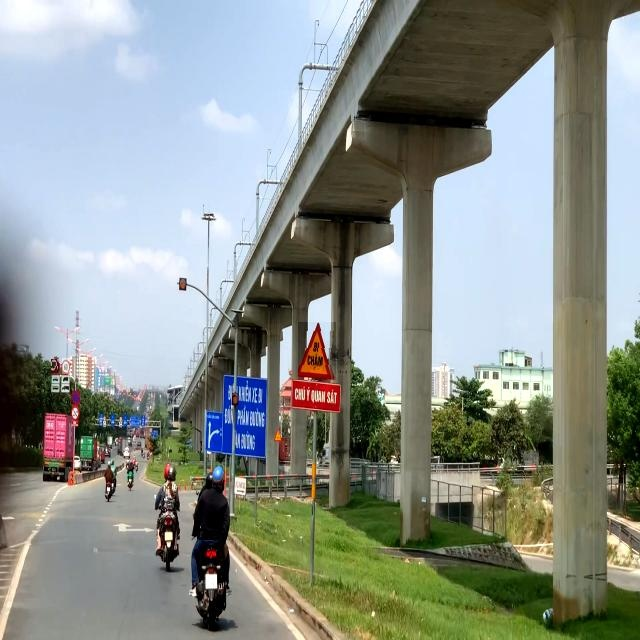bien_nguy_hiem: (298, 322, 336, 380), (51, 359, 60, 374), (71, 390, 80, 405), (62, 358, 70, 374)
